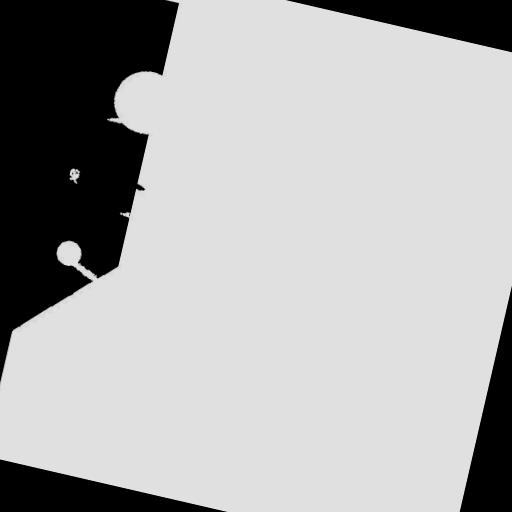mousebite: (97, 106, 133, 134), (110, 201, 144, 230)
open: (53, 248, 110, 290)
pin-hole: (58, 159, 90, 193)
spur: (122, 173, 154, 200)
